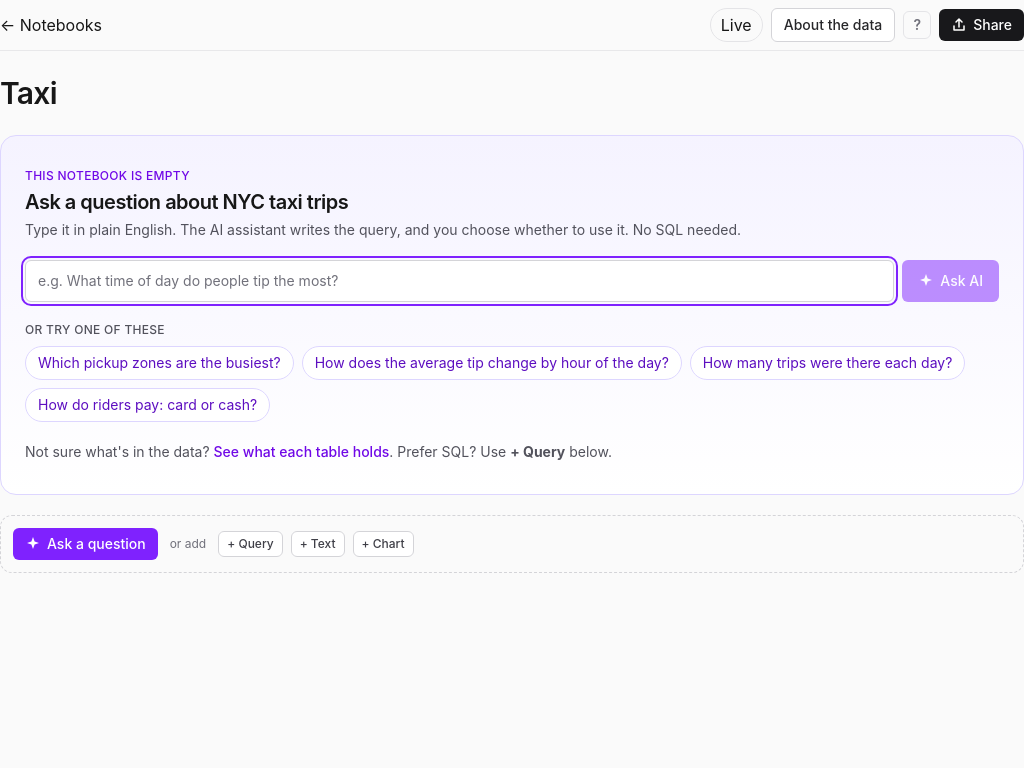
Test: adding cells and finding help › lists the keyboard shortcuts
Click the button named "Keyboard shortcuts". click: (917, 25)
box: 903,11 -> 931,39
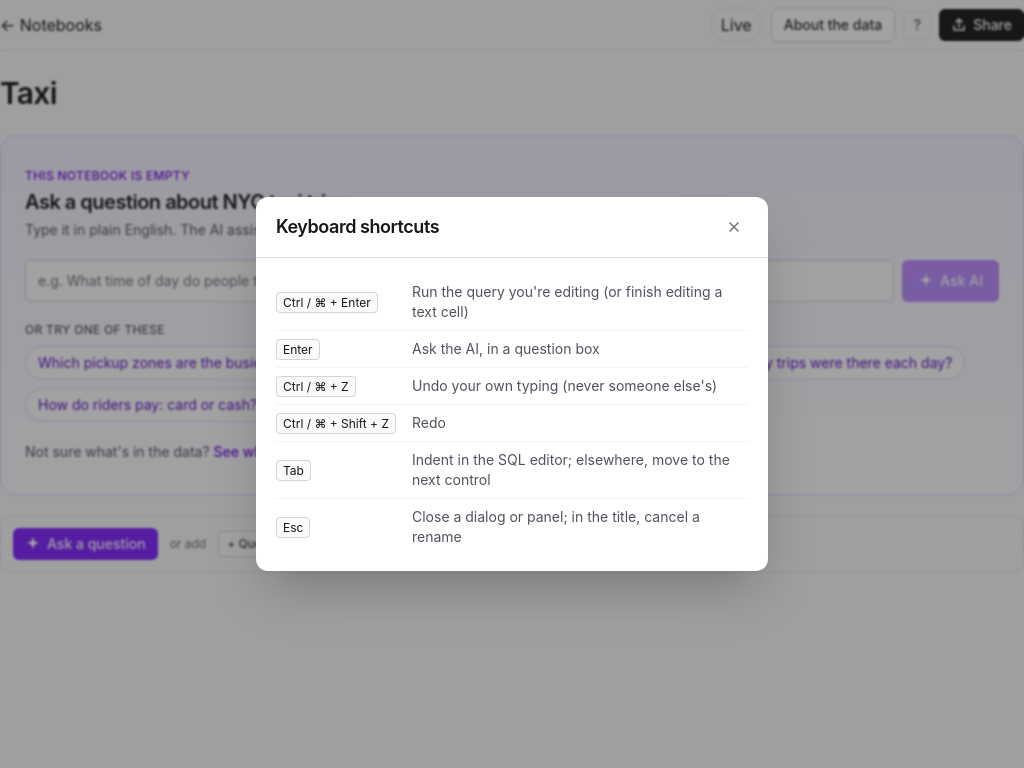
Check: the text "Ctrl / ⌘ + Enter" is shown, box 276,292 -> 378,313
